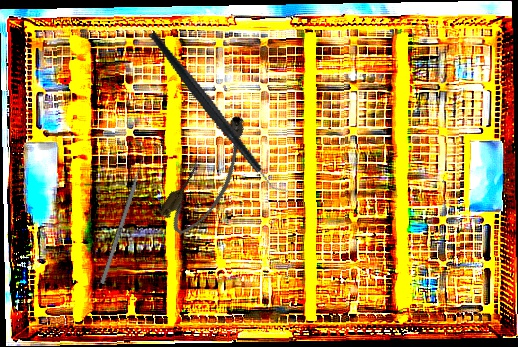Cannula: (154, 109, 266, 242)
Chopper: (146, 7, 293, 219)
Pusher: (99, 150, 148, 285)
